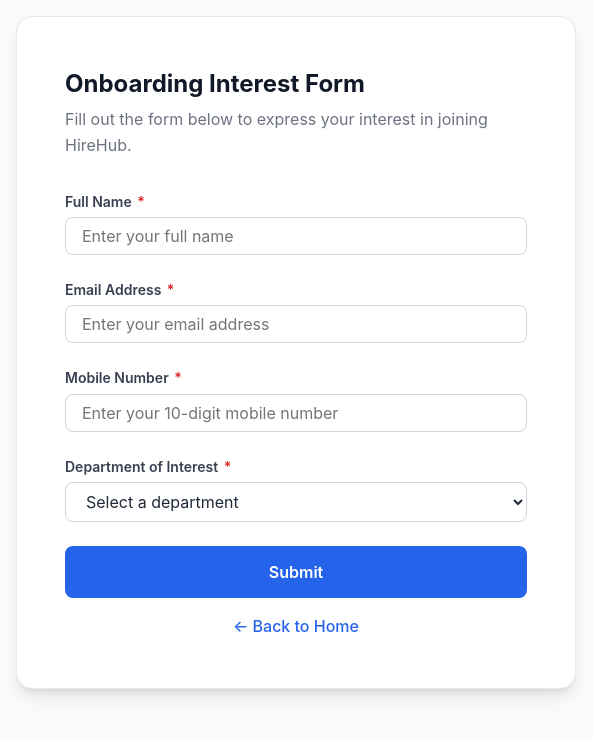
InterestForm › Validation errors › shows invalid mobile error for non-10-digit number
Type "John Doe" into the field labelled "Full Name *" at {"x": 296, "y": 236}, box [65,217,527,255]
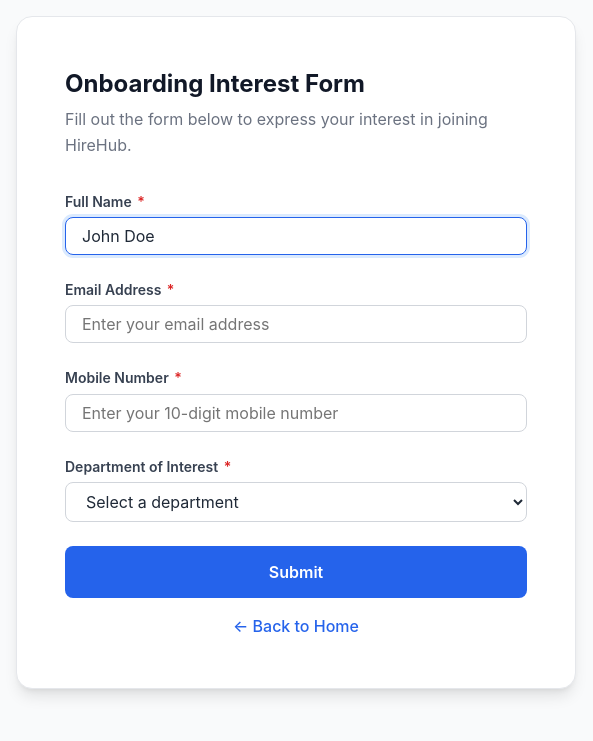
Type "john@example.com" into the field labelled "Email Address *" at {"x": 296, "y": 324}, box [65,305,527,343]
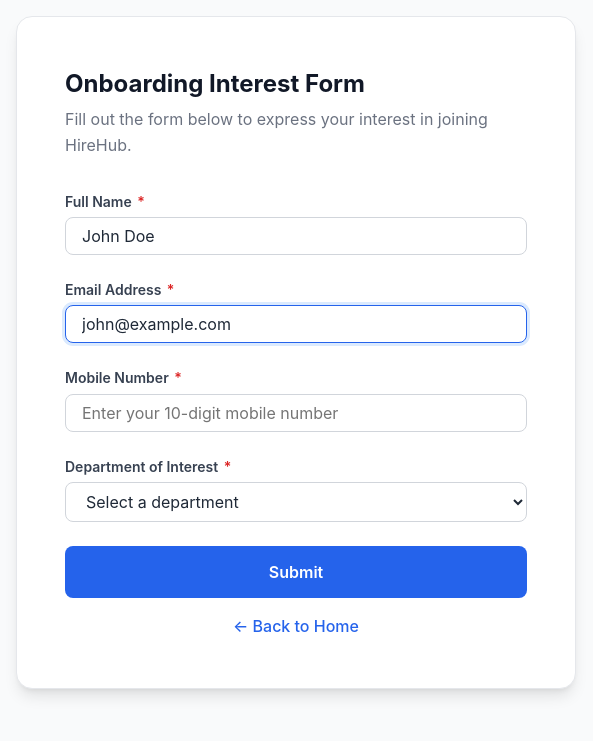
Type "12345" into the field labelled "Mobile Number *" at {"x": 296, "y": 413}, box [65,394,527,432]
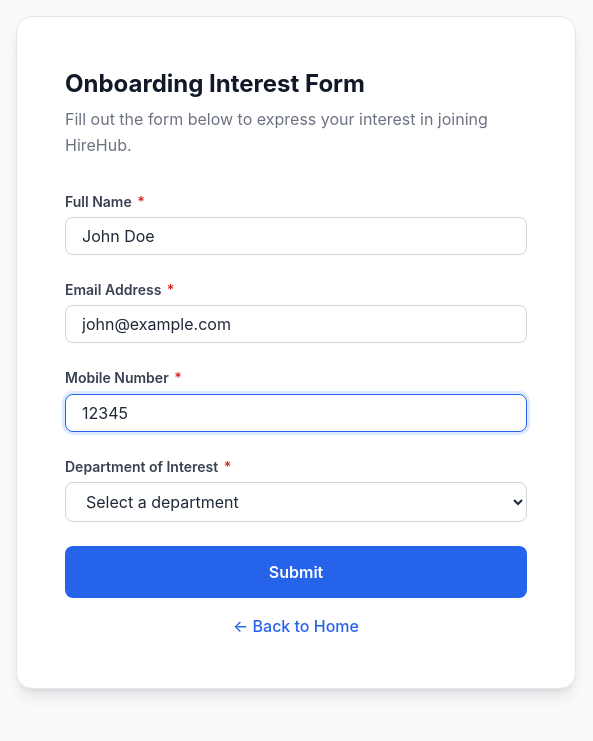
Select "Engineering" in the dropdown labelled "Department of Interest *" at {"x": 296, "y": 502}, box [65,482,527,522]
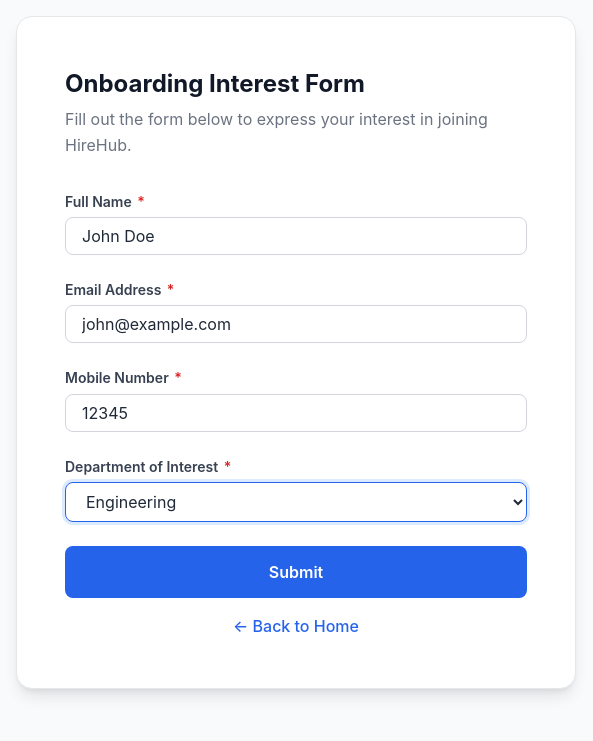
Click the button "Submit" at {"x": 296, "y": 572}, box [65,546,527,598]
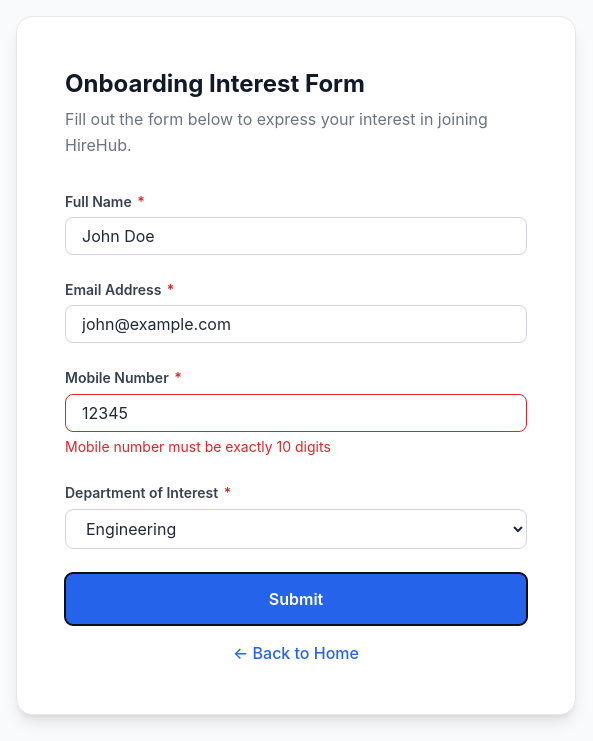
Now the text "Mobile number must be exactly 10 digits" is shown, box [65,438,331,455]
